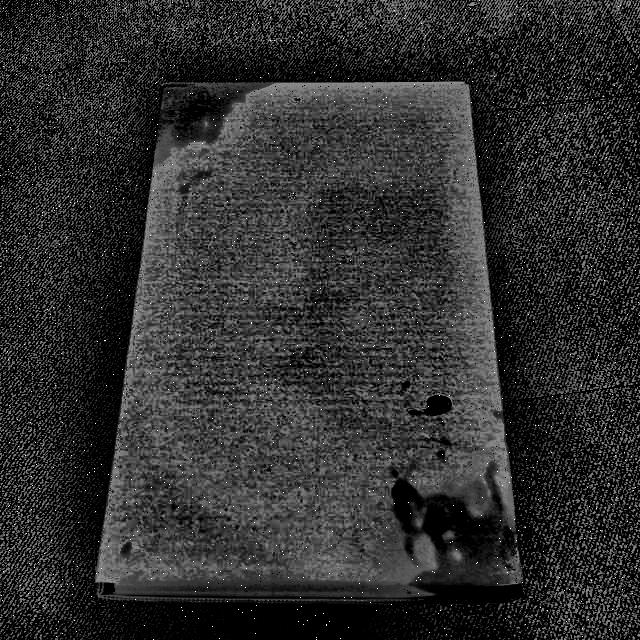box: (94, 78, 530, 602)
wet: (379, 472, 534, 602), (145, 82, 273, 170)
